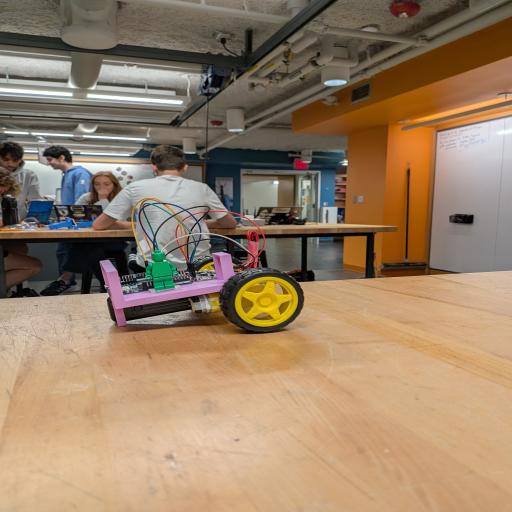Minifig: (146, 250, 177, 290)
